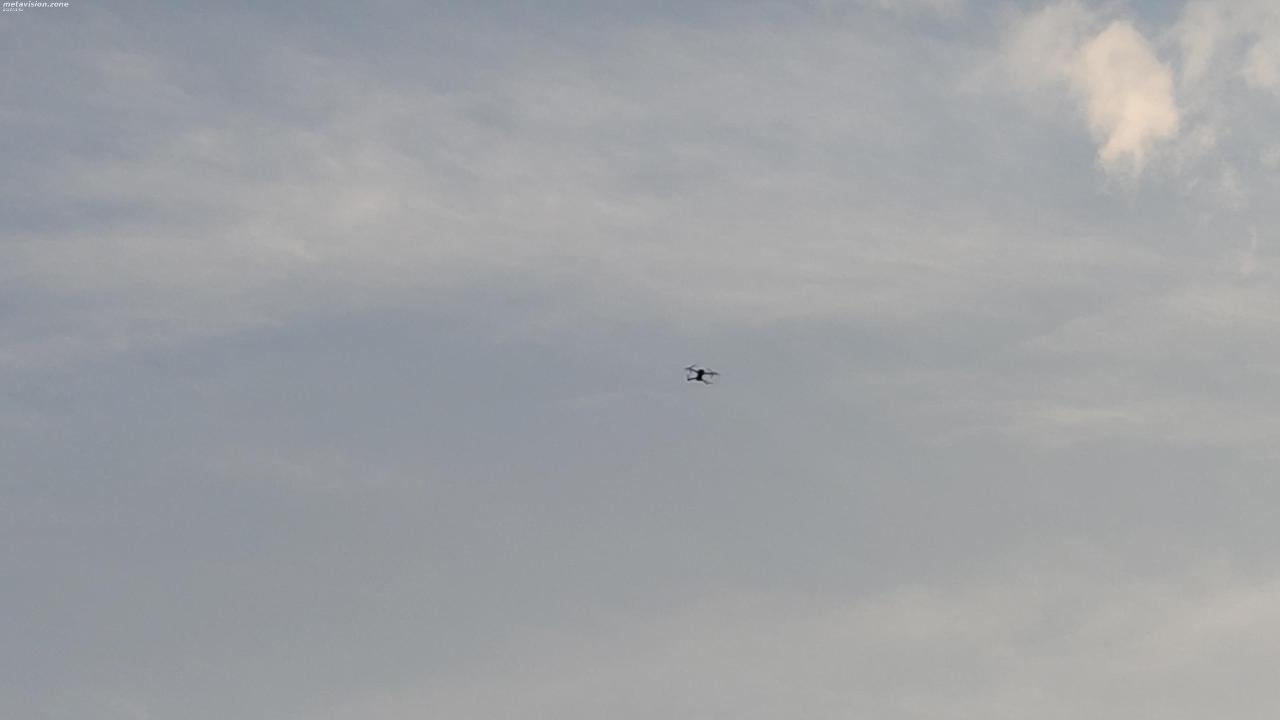drone: (678, 358, 721, 392)
